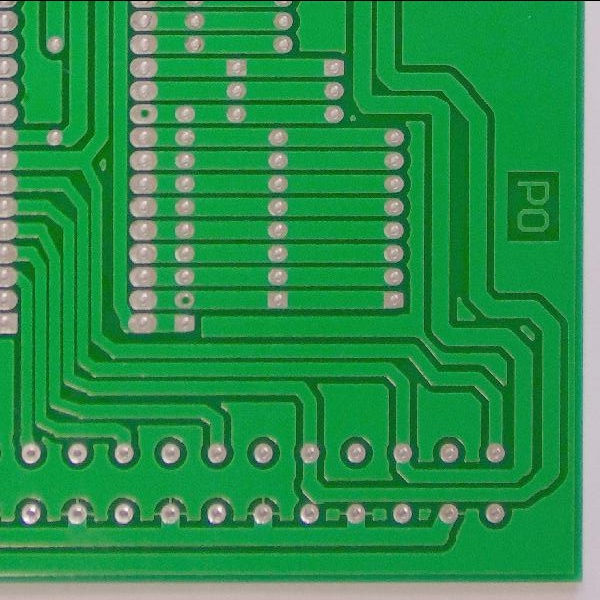missing_hole: (170, 289, 200, 310), (131, 102, 159, 123)
